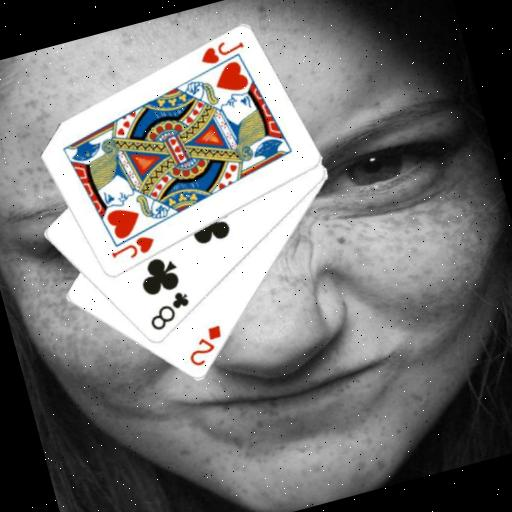2D: (179, 321, 230, 371)
8C: (141, 286, 196, 334)
JH: (105, 231, 158, 266), (194, 33, 247, 68)
